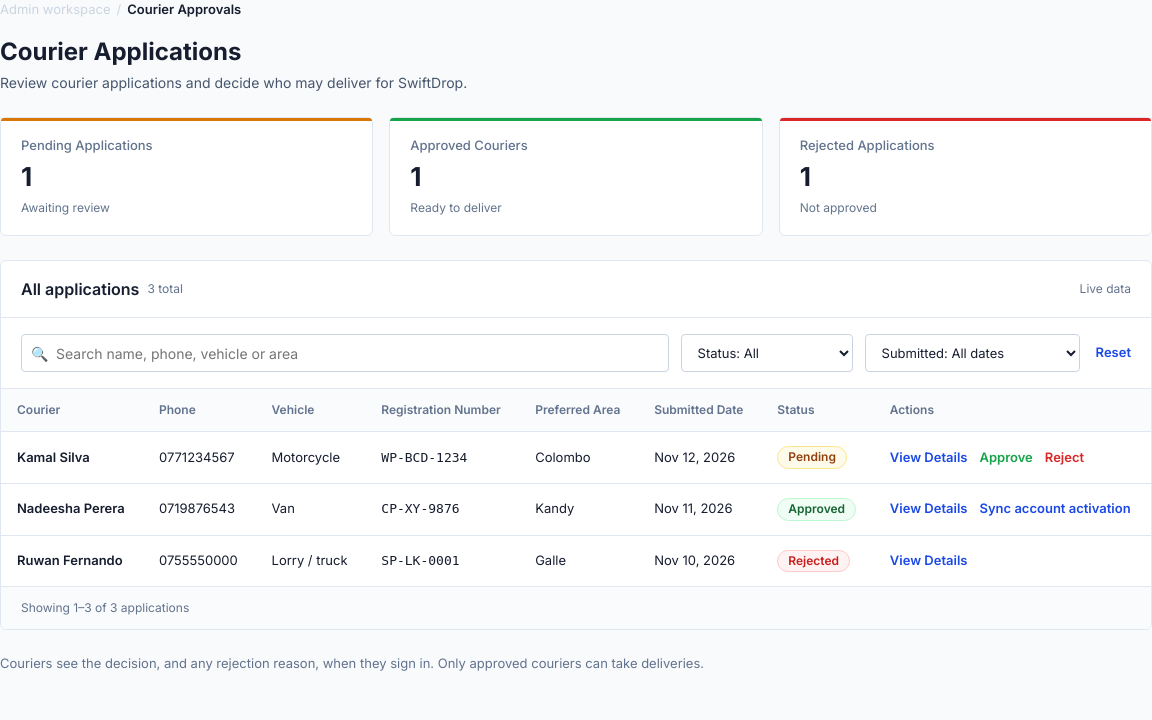
CourierApprovalsPage › filters by status and search, and shows the rejection reason in details
Expected: the text "Kamal Silva" is shown, [1,432,143,483]
Select "Status: Rejected" in the dropdown named "Filter by status". click: (767, 353)
box: [681,334,853,372]
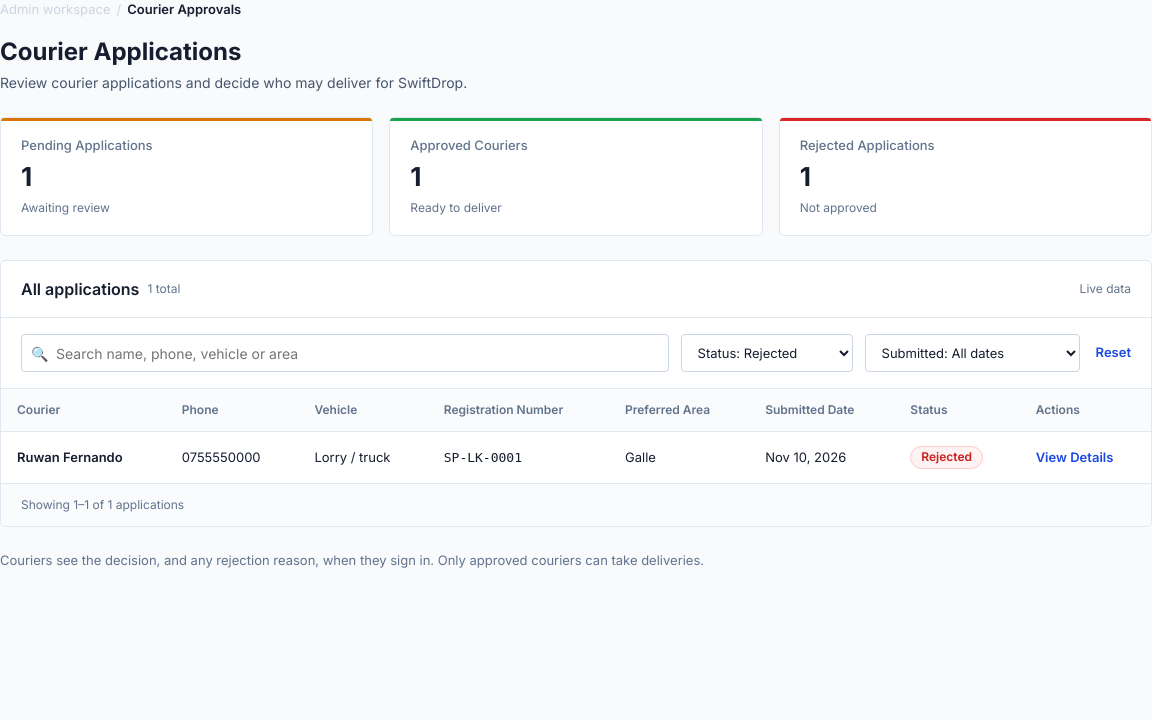
Expected: the text "Ruwan Fernando" is shown, [1,432,166,483]
Expected: the text "Kamal Silva" is gone
Click the button "View Details". click: (1075, 457)
box: [1036,448,1113,467]
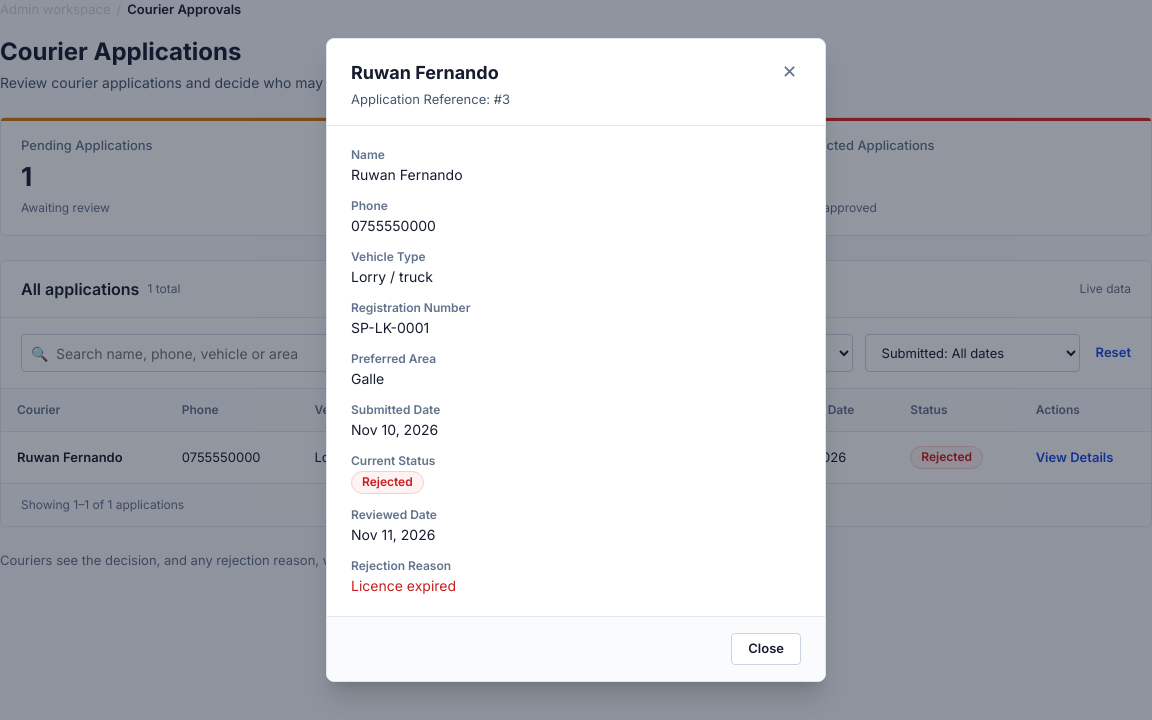
Expected: the text "Licence expired" is shown, [351,577,456,594]
Click the button "Close". click: (766, 649)
box: [731,633,801,665]
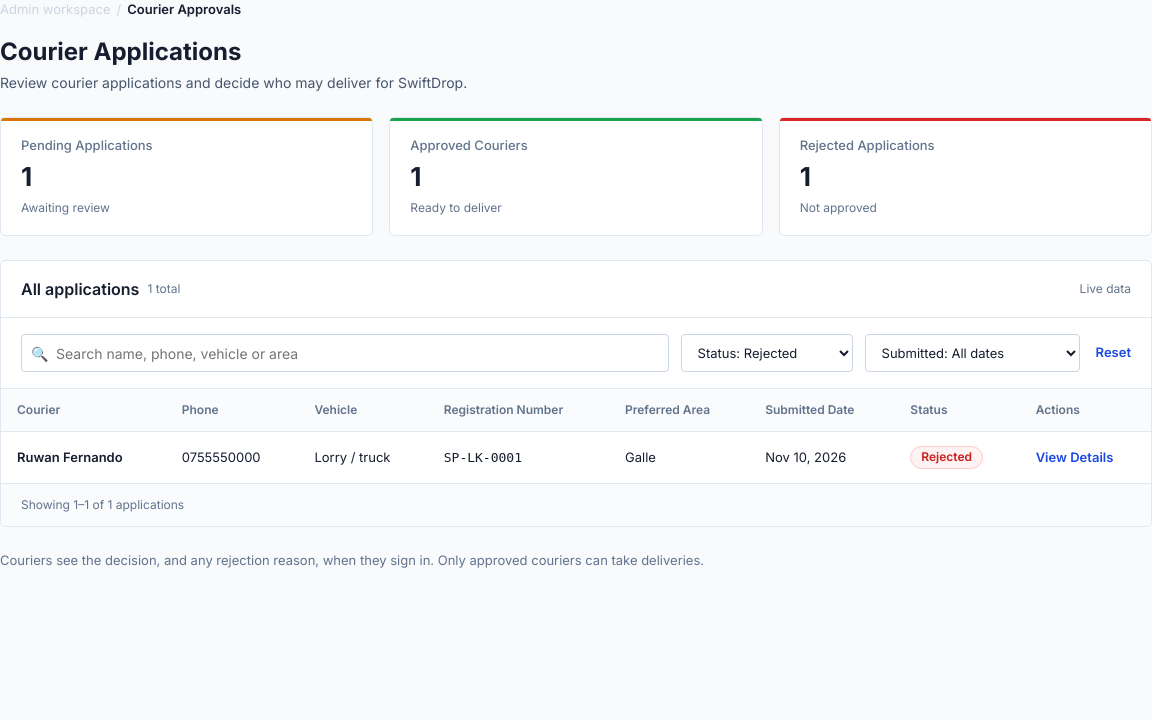
Click the button "Reset". click: (1113, 353)
box: [1096,343,1131,363]
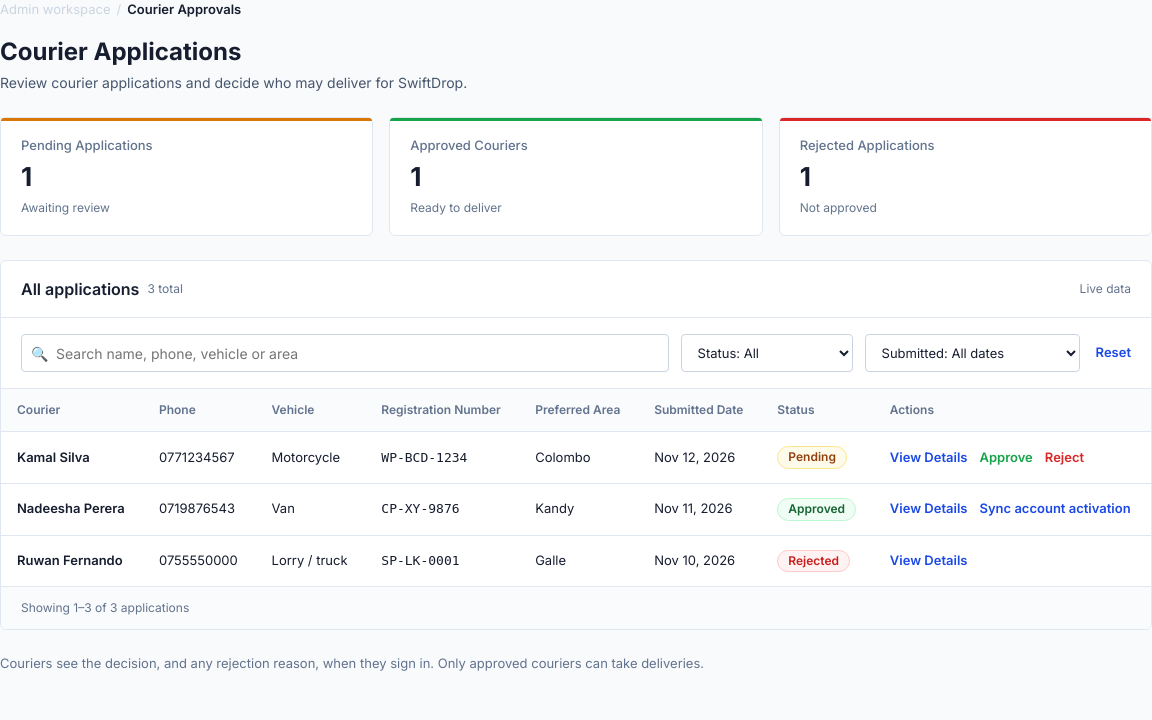
Type "kandy" into the search field named "Search applications". click: (345, 353)
box: [21,334,669,372]
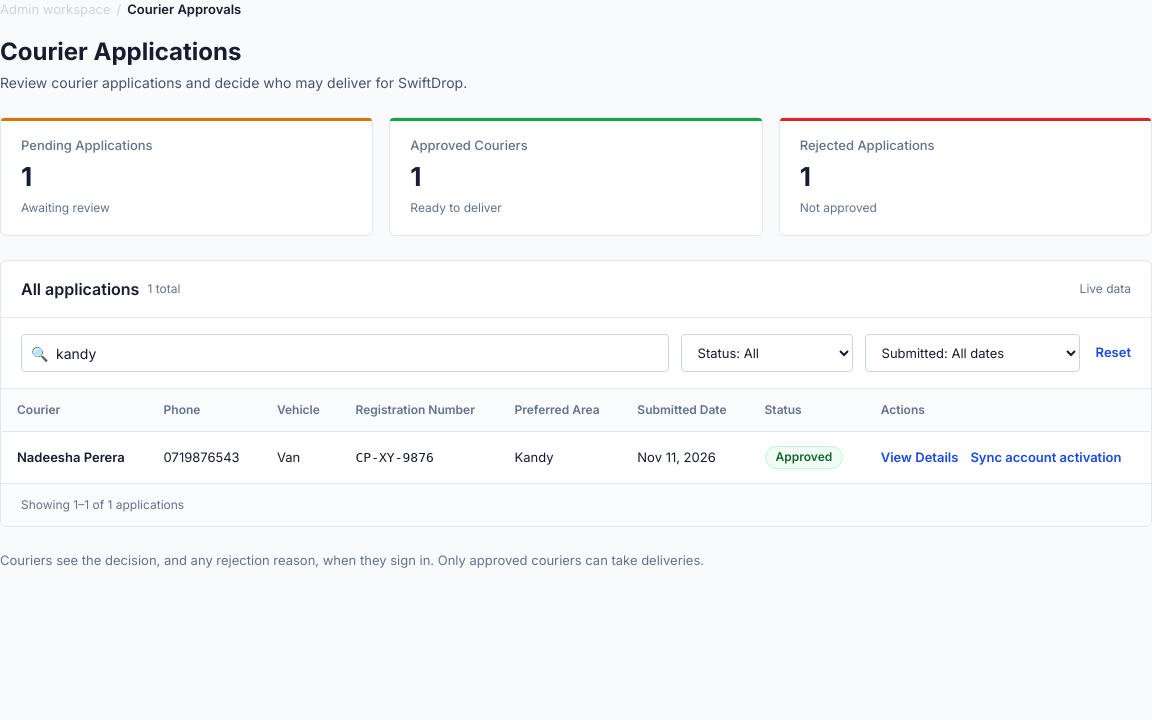
Expected: the text "Nadeesha Perera" is shown, [1,432,148,483]
Expected: the text "Kamal Silva" is gone
